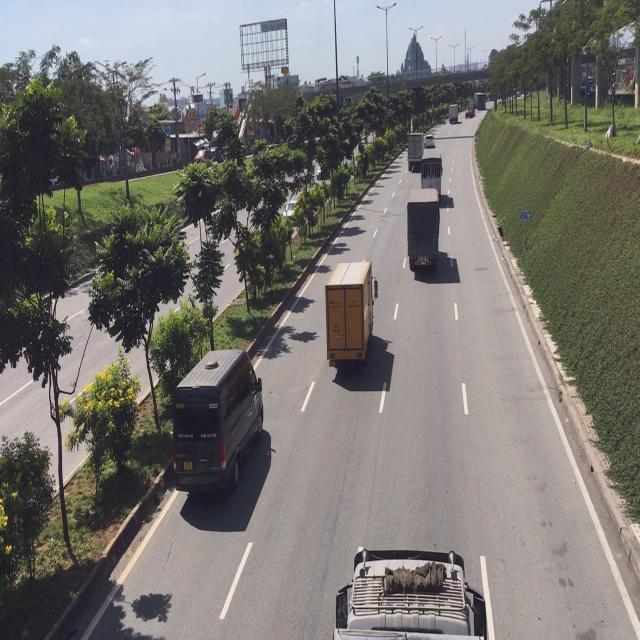bus: (171, 348, 267, 505)
truck: (336, 543, 492, 637), (324, 258, 381, 376), (406, 191, 440, 272), (421, 148, 442, 190), (406, 130, 423, 171)
